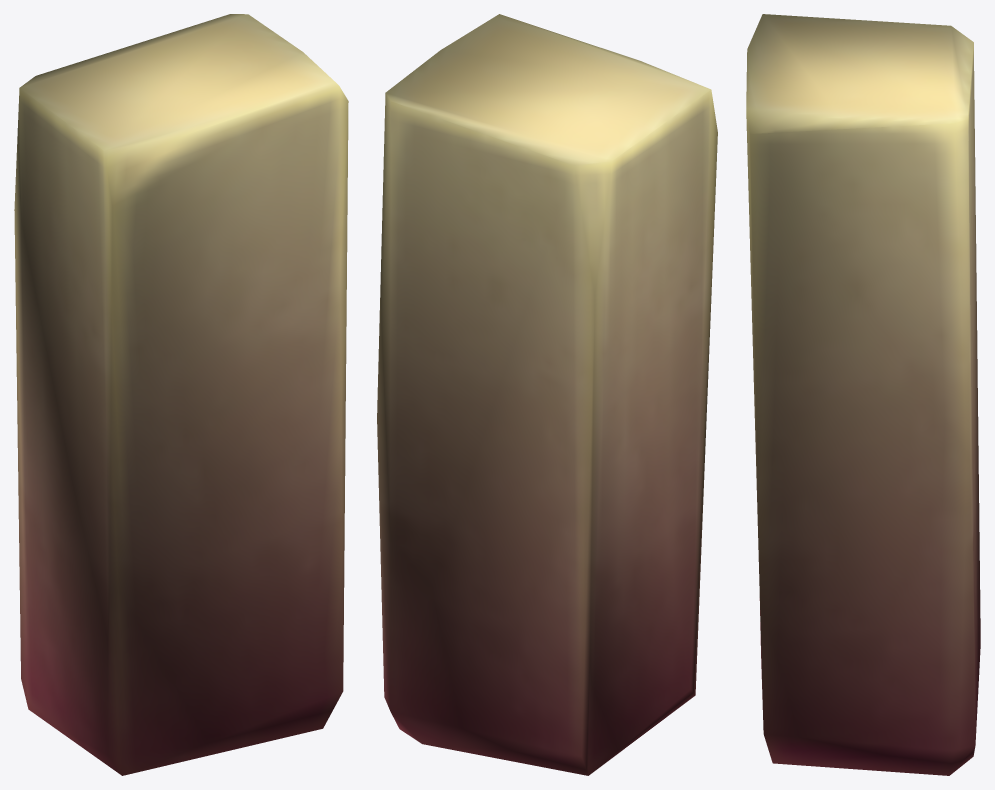
Rendered from SM_Gem_Topaz_Piece_002.fbx.
The picture shows the model from 3 angles, left to right: view 1: azimuth 30°, elevation 25°; view 2: azimuth 150°, elevation 25°; view 3: azimuth 270°, elevation 25°; orthographic projection. The views are drawn at different scales.
Parts seen in each view (by area): view 1: SM_Gem_Topaz_Piece_002; view 2: SM_Gem_Topaz_Piece_002; view 3: SM_Gem_Topaz_Piece_002.
Part boxes in pixels (x1=…): SM_Gem_Topaz_Piece_002: x1=14, y1=14, x2=348, y2=775; SM_Gem_Topaz_Piece_002: x1=377, y1=14, x2=717, y2=775; SM_Gem_Topaz_Piece_002: x1=746, y1=14, x2=980, y2=775.
Bounding box in the file's own units: 6.81 × 17.86 × 5.7.
